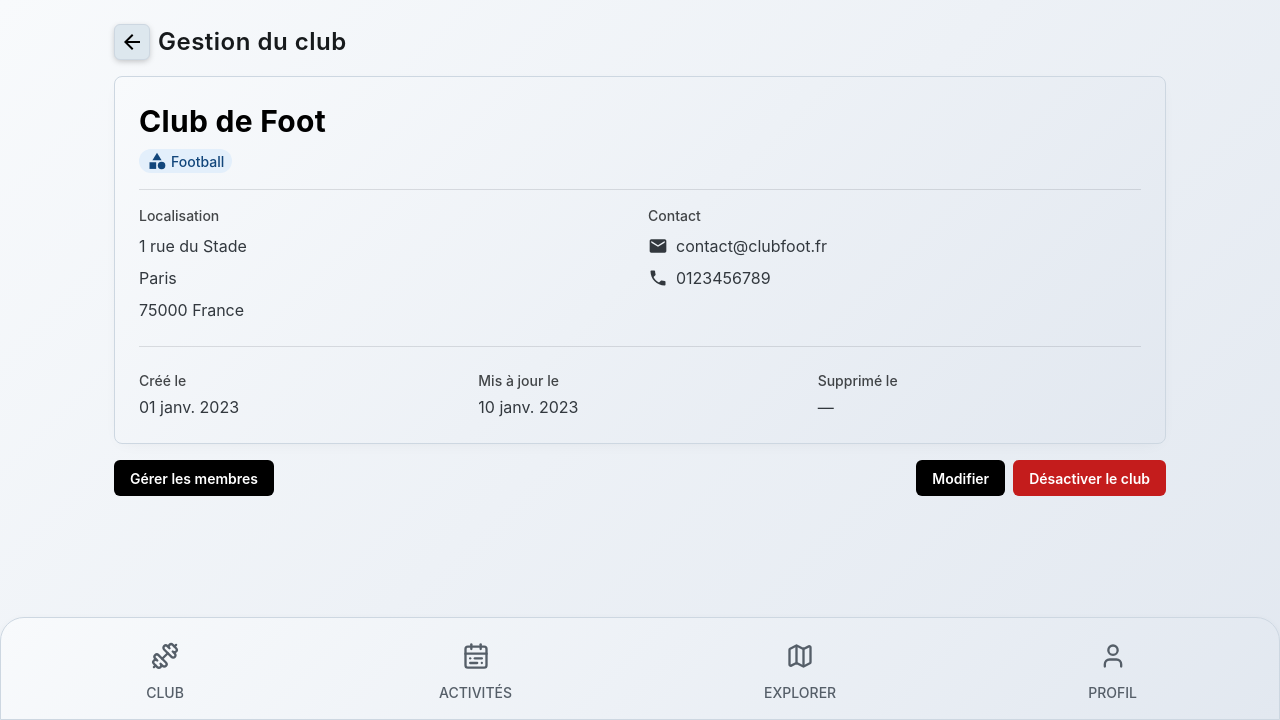
Test: ManageClub › passe en mode édition et sauvegarde
The width and height of the screenshot is (1280, 720).
Click the button "Modifier": (961, 478) [916,460,1005,496]
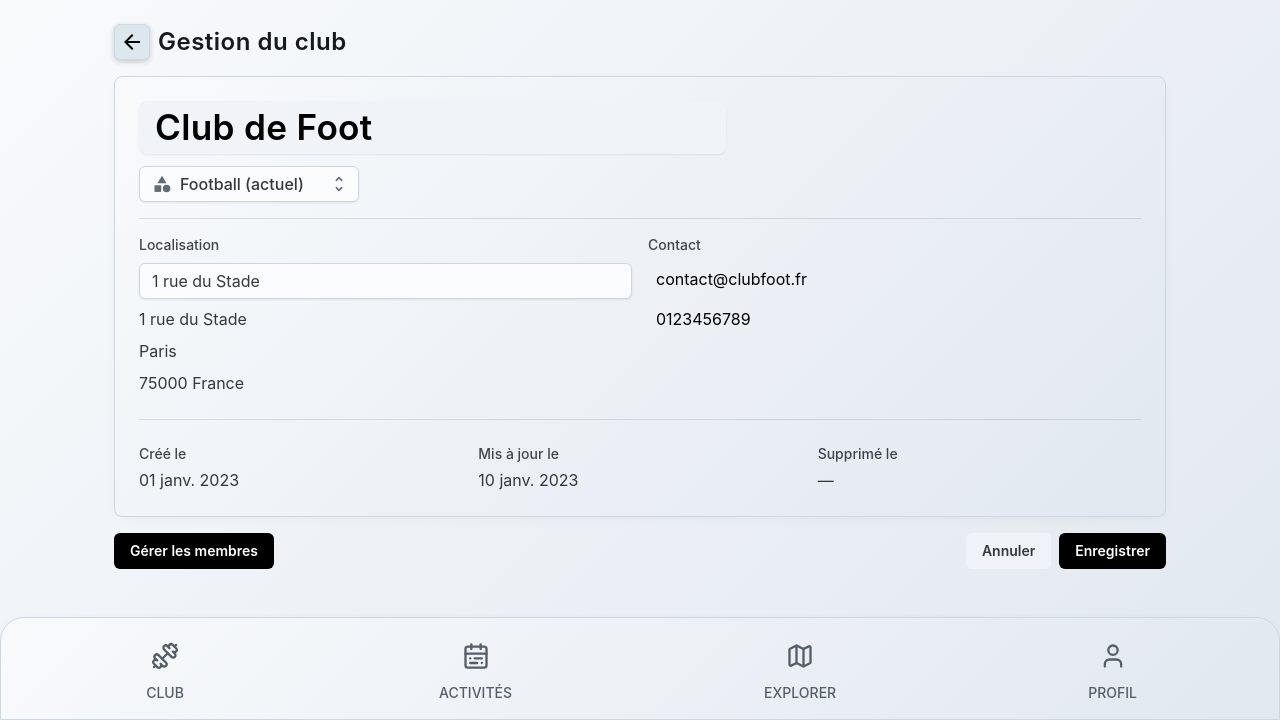
Replace the text in the 1st field with placeholder "Nom du club" with "Nouveau nom": (432, 127) [155,101,710,154]
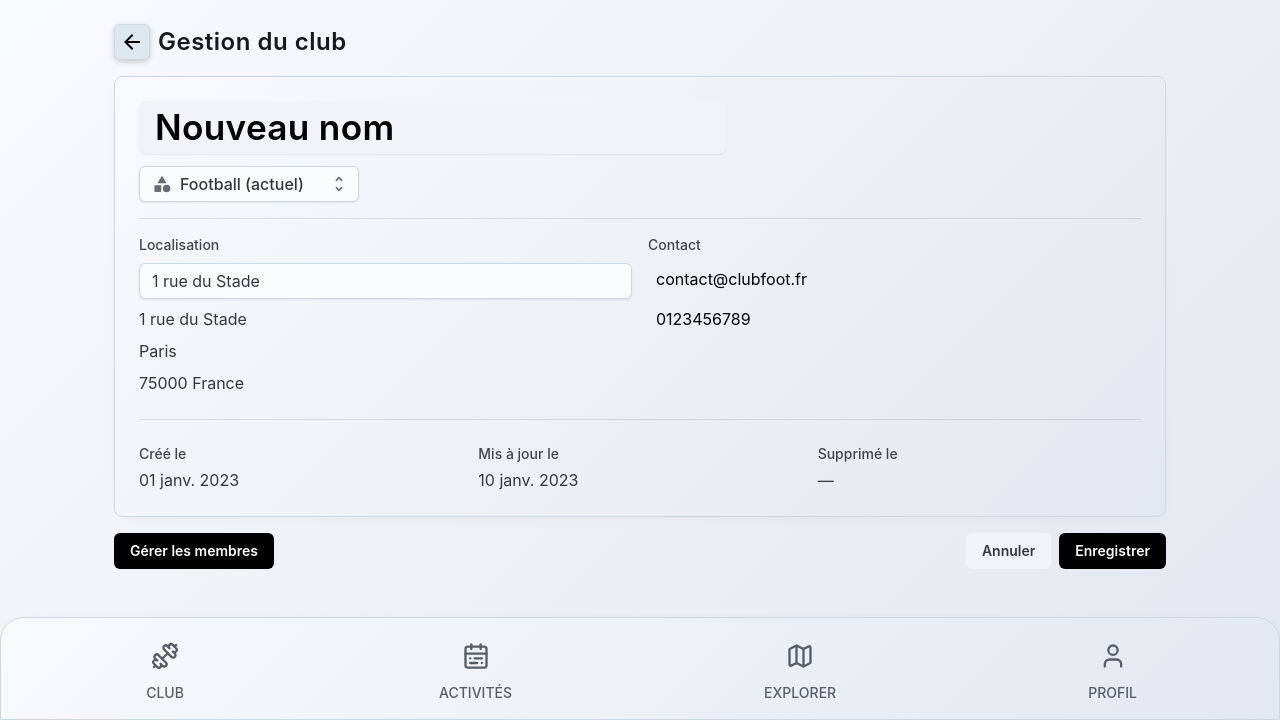
Click the button "Enregistrer": (1113, 551) [1059,533,1166,569]
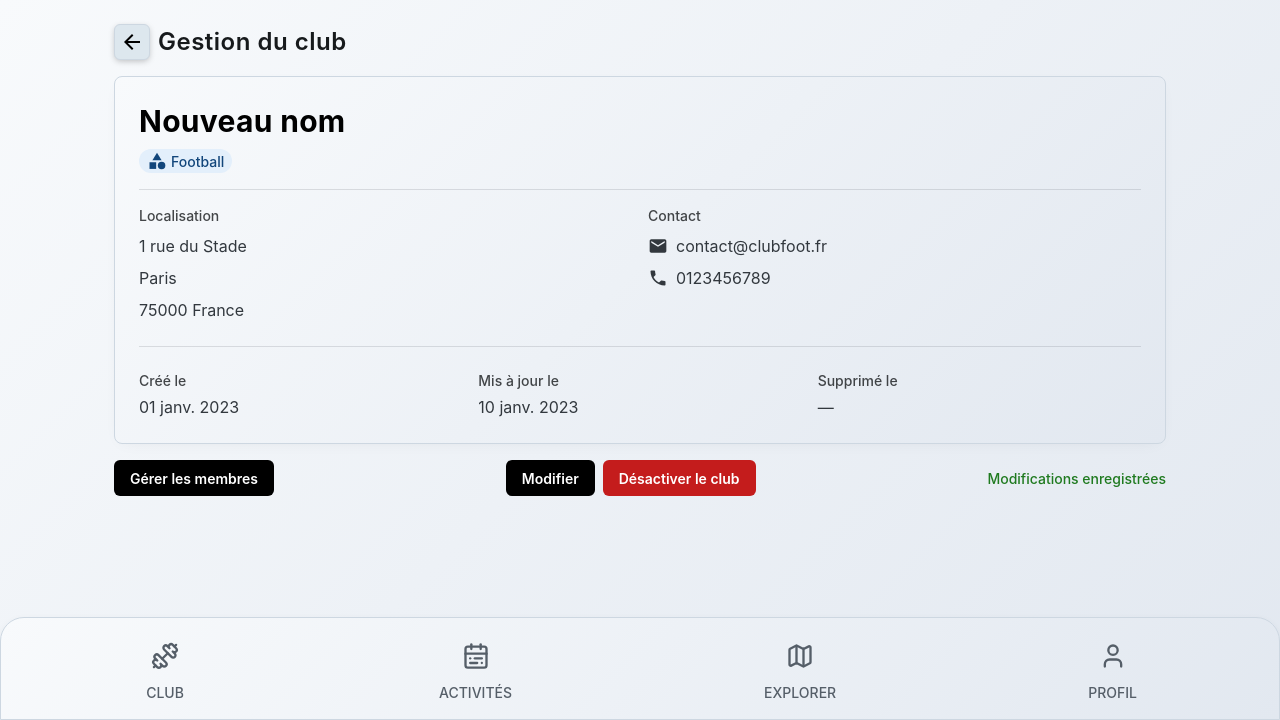
Now the text "Modifications enregistrées" is shown, box [987,468,1166,488]
